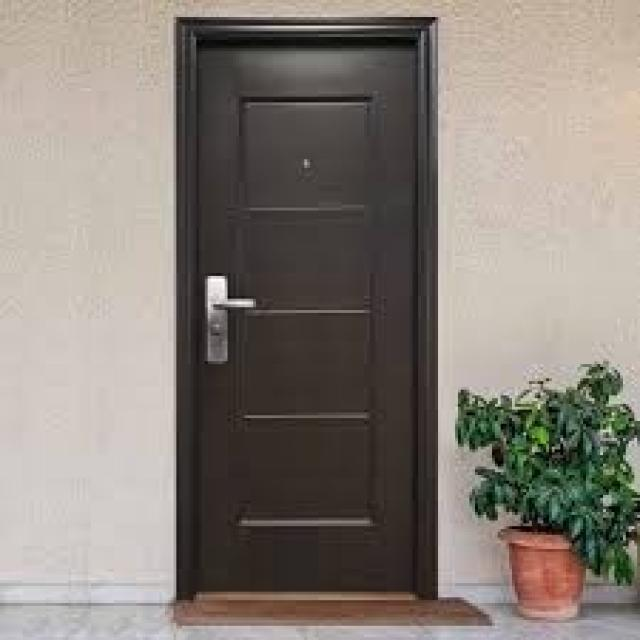door: (183, 21, 434, 599)
